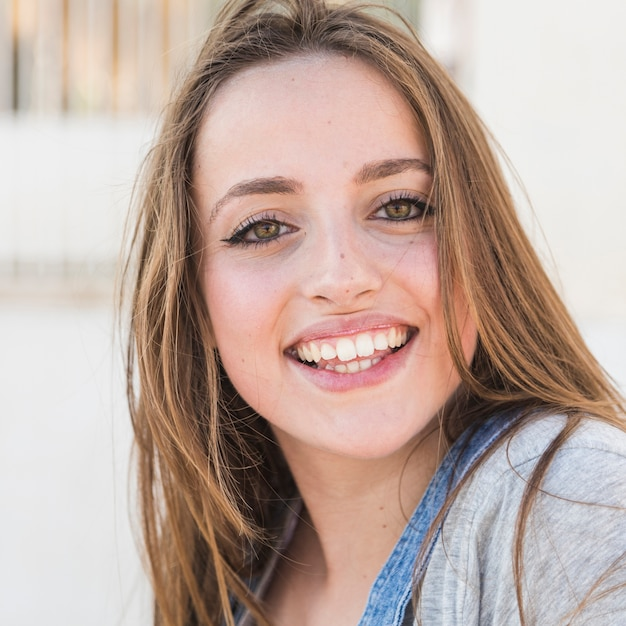teen: (120, 1, 536, 468)
